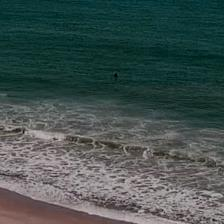surfer: (114, 73, 118, 77)
